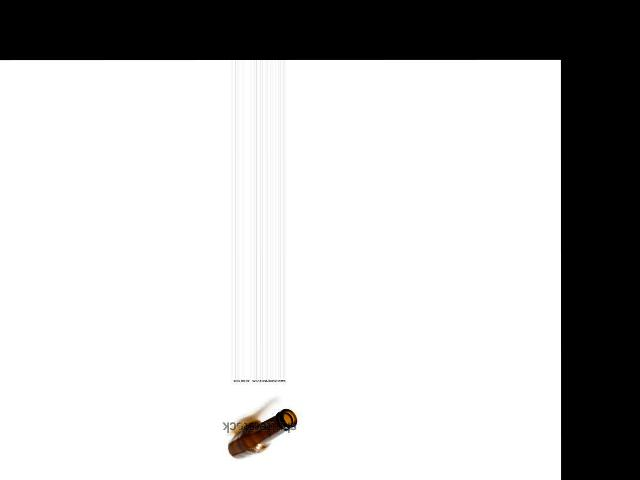beer: (227, 408, 297, 458)
